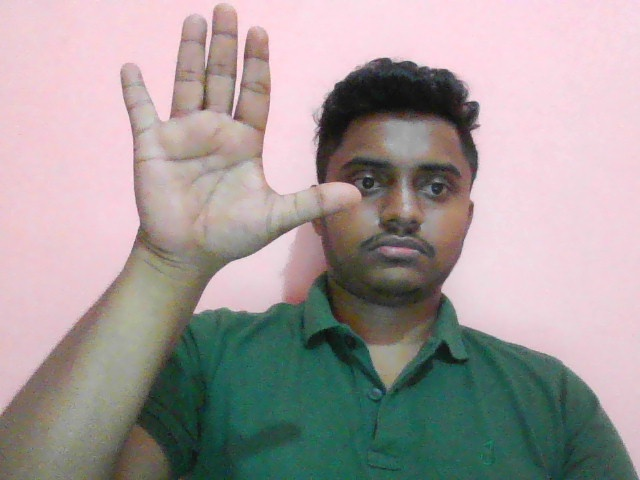Hello: (110, 1, 365, 278)
